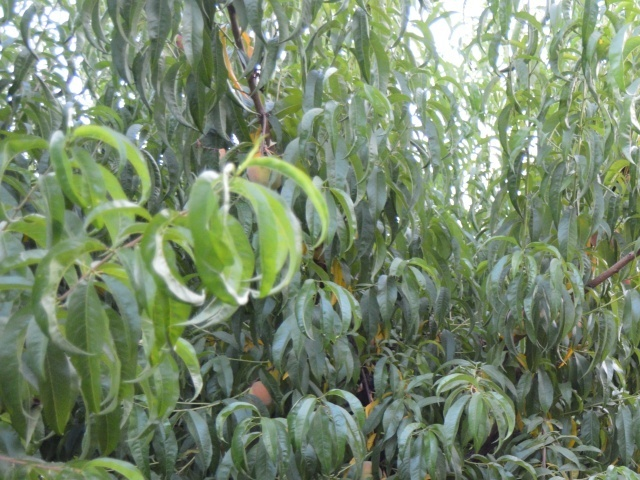peach: (240, 158, 281, 192), (245, 377, 272, 408)
